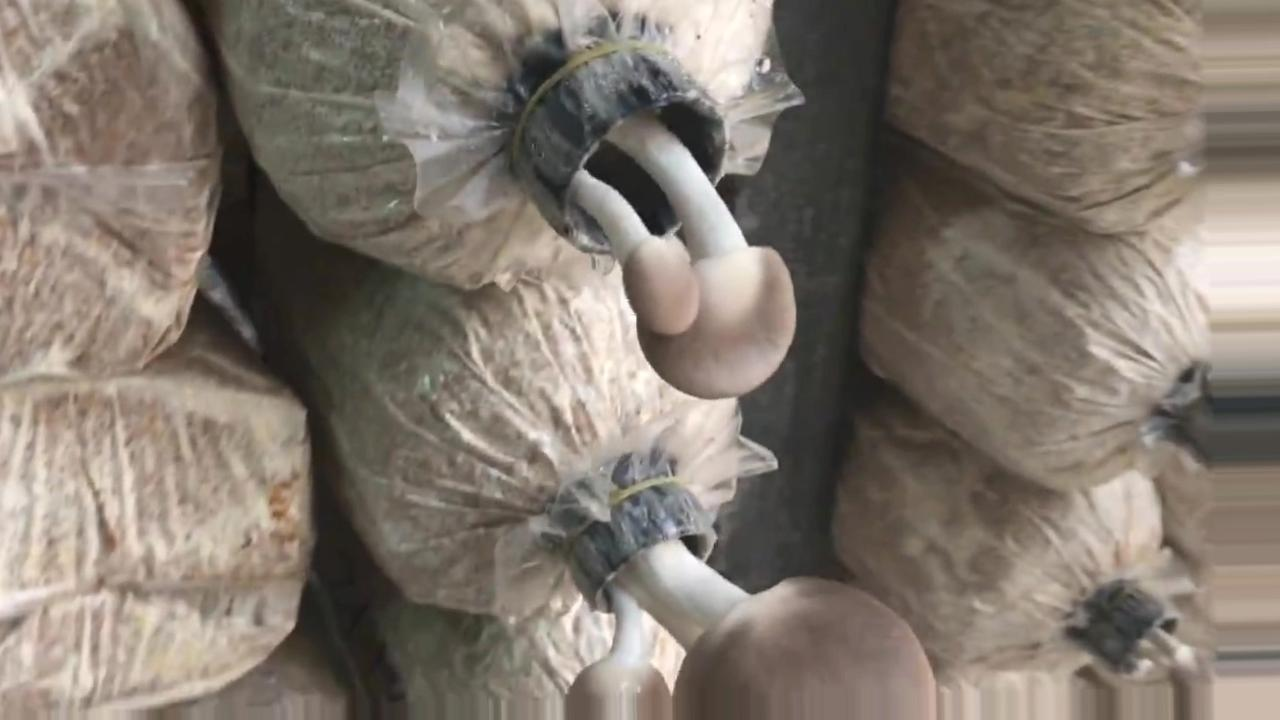nam: (513, 42, 798, 398), (567, 488, 938, 720)
